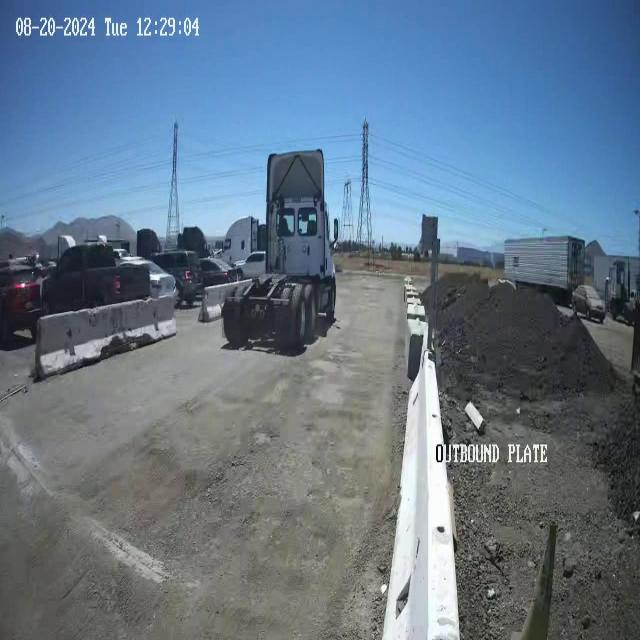BOBTAIL: (220, 147, 338, 353)
